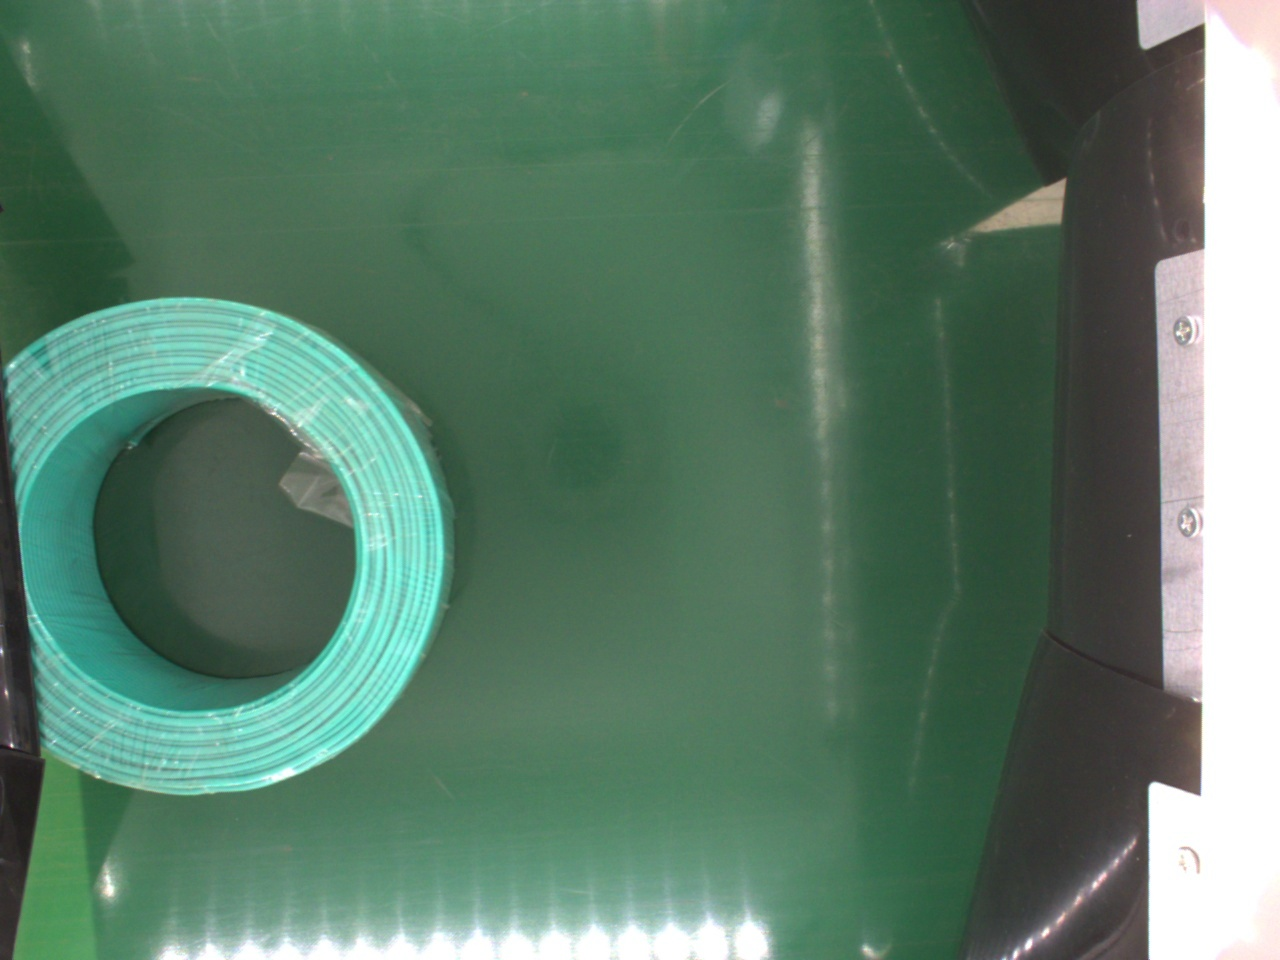green: (20, 295, 450, 796)
